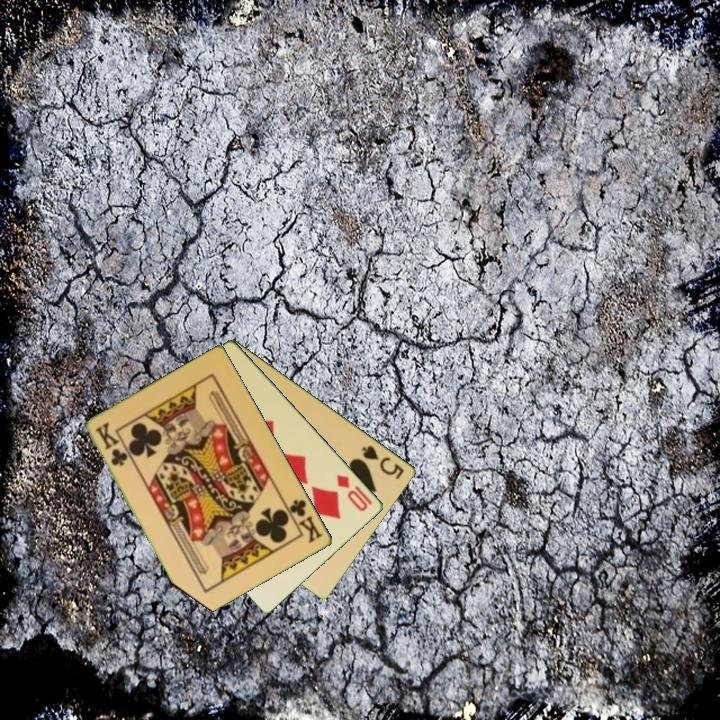10d: (333, 471, 371, 514)
5s: (359, 442, 408, 482)
Kc: (282, 496, 326, 546), (92, 419, 131, 469)
